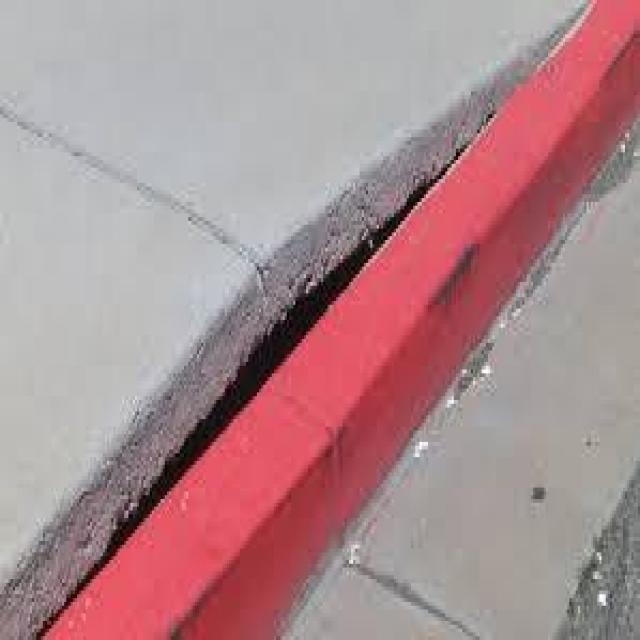bump: (0, 80, 565, 640)
